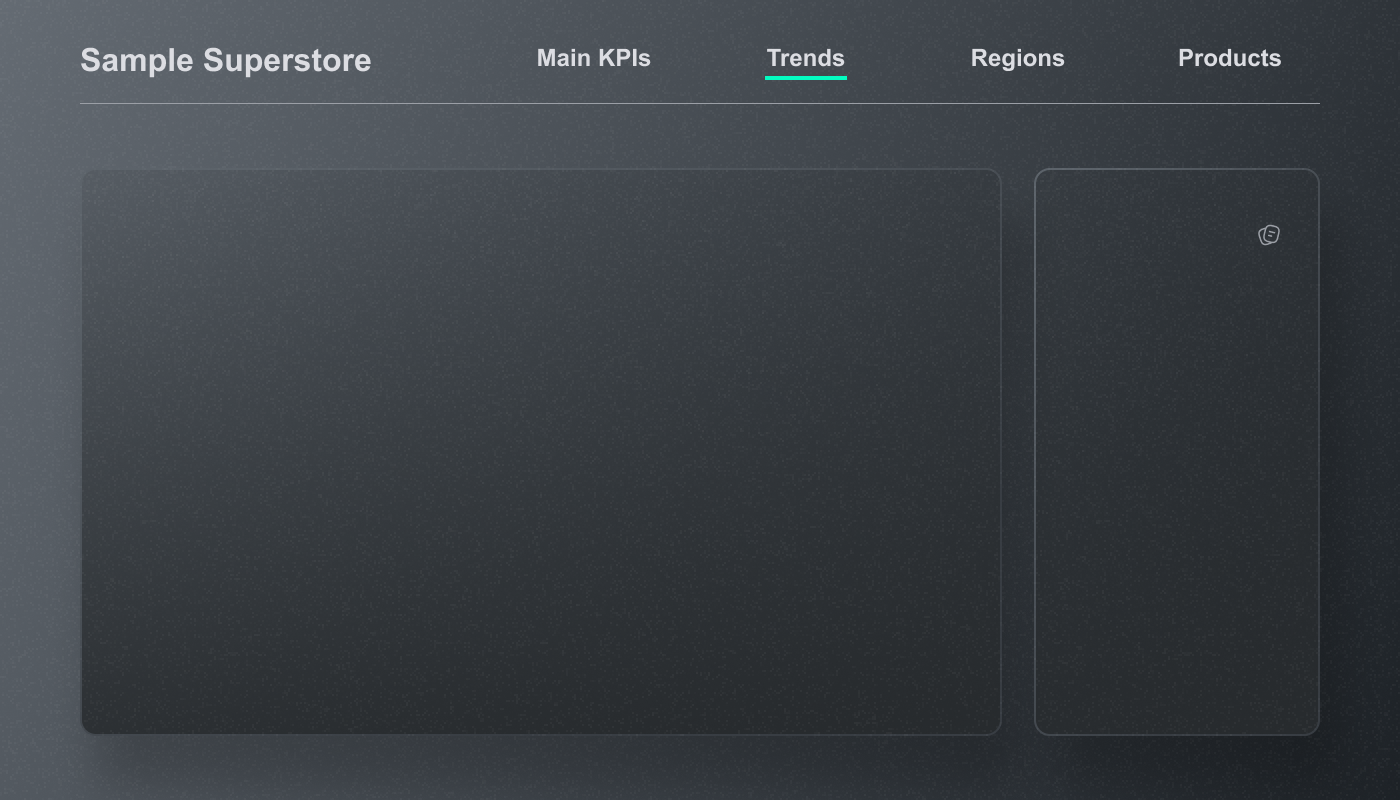

The page's visual inventory and layout, read from the dashboard file:
{"tool":"tableau","page":{"name":"Trend Analysis","canvas":[1400,800],"ordinal":3},"visuals":[{"type":"image","param":"Image/Trend Analysis.png","box":[0,0,1400,800]},{"type":"dashboard-object","box":[1160,136,24,24]},{"type":"worksheet","title":"Reset Filters","mark":"Shape","cols":["Calculation_707909609538879489"],"box":[1216,136,24,24]},{"type":"dashboard-object","box":[1272,136,24,24]},{"type":"filter","title":"Trend","param":"[federated.0edz2lz09zrftf18khcru1ptet20].[yr:Order Date:ok]","box":[1120,181,174,54]},{"type":"dashboard-object","box":[64,200,100,64]},{"type":"worksheet","title":"Trend","mark":"Automatic","cols":["Order Date"],"box":[217,211,776,475]},{"type":"text","box":[1075,219,202,303]},{"type":"filter","title":"Trend","param":"[federated.0edz2lz09zrftf18khcru1ptet20].[none:Category:nk]","box":[1120,235,174,54]},{"type":"parameter","param":"[Parameters].[Parameter 1]","box":[228,255,137,40]},{"type":"dashboard-object","box":[64,264,100,64]},{"type":"legend","title":"Trend","param":"[federated.0edz2lz09zrftf18khcru1ptet20].[:Measure Names]","box":[421,270,375,24]},{"type":"filter","title":"Trend","param":"[federated.0edz2lz09zrftf18khcru1ptet20].[none:Sub-Category:nk]","box":[1120,289,174,54]},{"type":"dashboard-object","box":[64,328,100,64]},{"type":"filter","title":"Trend","param":"[federated.0edz2lz09zrftf18khcru1ptet20].[none:State/Province:nk]","box":[1120,343,174,54]},{"type":"dashboard-object","box":[64,392,100,64]},{"type":"filter","title":"Trend","param":"[federated.0edz2lz09zrftf18khcru1ptet20].[none:City:nk]","box":[1120,397,174,54]},{"type":"filter","title":"Trend","param":"[federated.0edz2lz09zrftf18khcru1ptet20].[none:Segment:nk]","box":[1120,451,174,54]},{"type":"dashboard-object","box":[64,456,100,64]}]}

Visuals, with their boxes in screenshot pixels (x1, y1, x2, y2), scaled from the page's 1400x800 canvas onto the 1400x800 screenshot:
image: detection(0, 0, 1399, 799)
dashboard-object: detection(1160, 136, 1184, 160)
"Reset Filters" worksheet (Shape marks): detection(1216, 136, 1240, 160)
dashboard-object: detection(1272, 136, 1296, 160)
"Trend" filter: detection(1120, 181, 1294, 235)
dashboard-object: detection(64, 200, 164, 264)
"Trend" worksheet: detection(217, 211, 993, 686)
text: detection(1075, 219, 1277, 522)
"Trend" filter: detection(1120, 235, 1294, 289)
parameter: detection(228, 255, 365, 295)
dashboard-object: detection(64, 264, 164, 328)
"Trend" legend: detection(421, 270, 796, 294)
"Trend" filter: detection(1120, 289, 1294, 343)
dashboard-object: detection(64, 328, 164, 392)
"Trend" filter: detection(1120, 343, 1294, 397)
dashboard-object: detection(64, 392, 164, 456)
"Trend" filter: detection(1120, 397, 1294, 451)
"Trend" filter: detection(1120, 451, 1294, 505)
dashboard-object: detection(64, 456, 164, 520)
